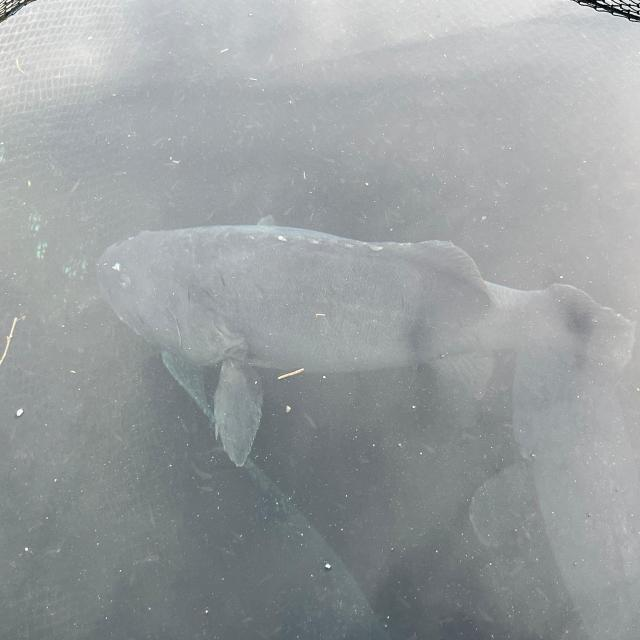ikan: (86, 204, 604, 473)
